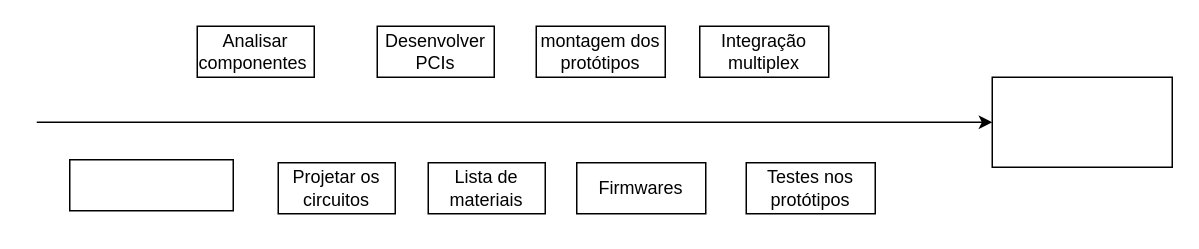
The diagram is 1199 pixels wide and 249 high, and some of its shapes have lost their labels. Here are the shapes that lost their labels. From the top down, the centre of each, then its label:
At point (1081, 121): "Entrega de protótipos".
At point (150, 184): "Reavaliar requisitos do projeto".
